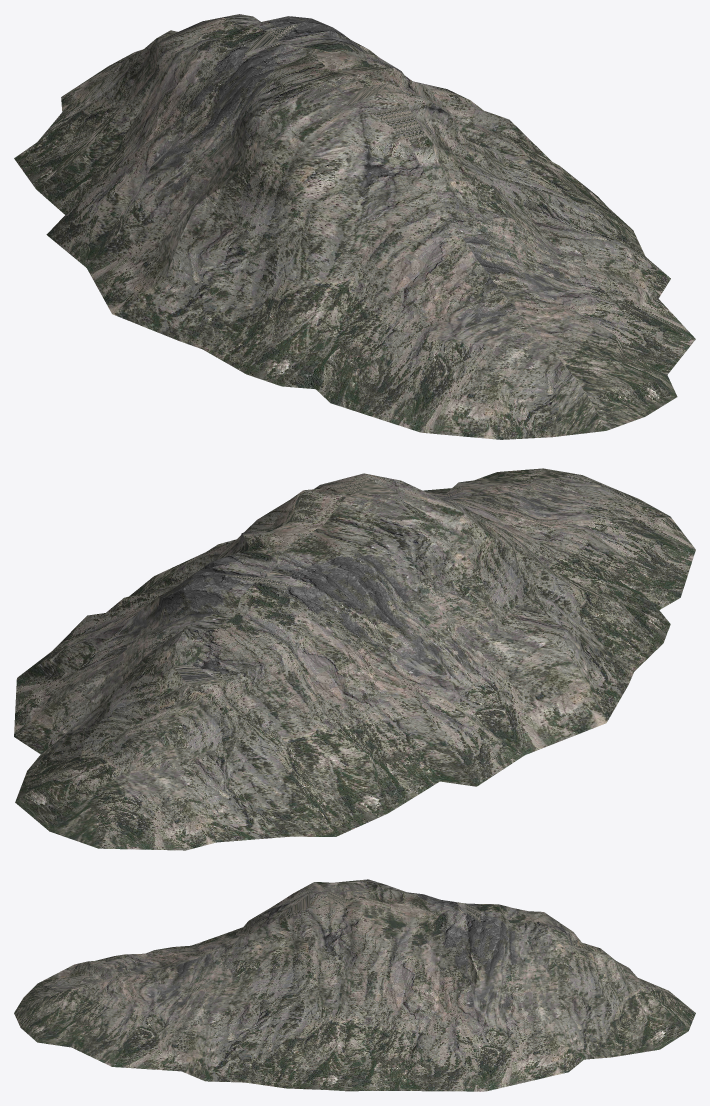
The model's file is mountain_1.fbx.
3 renders of one model, top to bottom at view 1: azimuth 30°, elevation 25°; view 2: azimuth 150°, elevation 25°; view 3: azimuth 270°, elevation 25°, orthographic. The views are drawn at different scales.
Visible parts, largest first — view 1: polySurface1; view 2: polySurface1; view 3: polySurface1.
Part boxes in pixels (bbox=[...]): polySurface1: bbox=[14, 14, 695, 439]; polySurface1: bbox=[14, 468, 695, 850]; polySurface1: bbox=[14, 879, 695, 1091].
Size of the model in its own units: 23836 by 7992 by 42327.
Materials: 1 (1 with a texture image).
